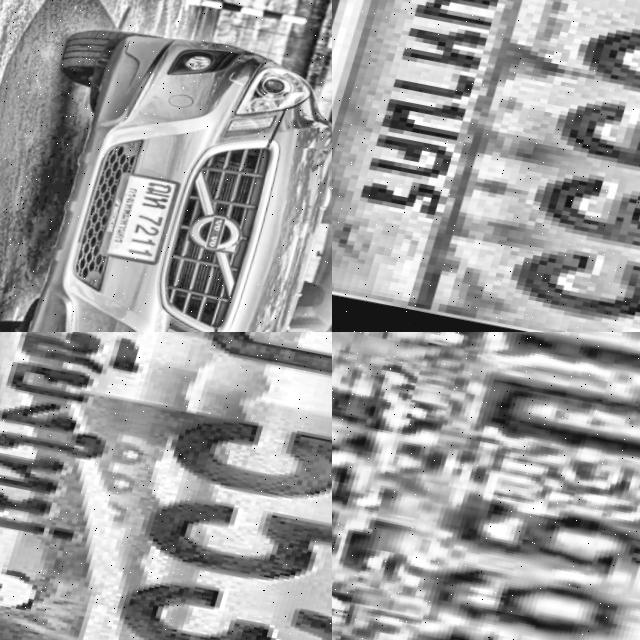license-plate: (332, 0, 640, 332), (0, 332, 332, 640), (332, 332, 640, 640), (94, 167, 200, 274)
